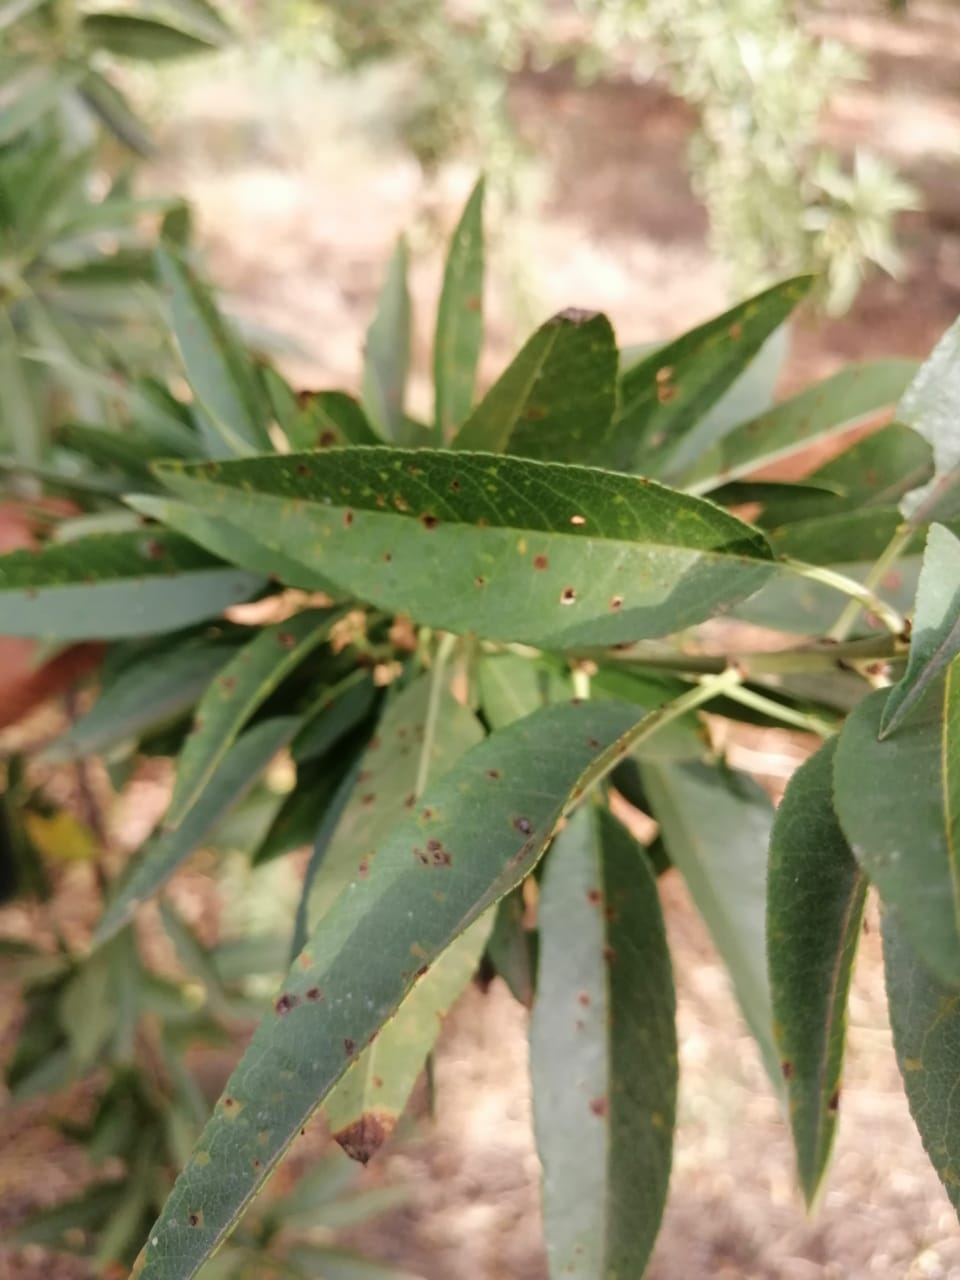coryneum: (128, 698, 665, 1279), (146, 440, 784, 654)
